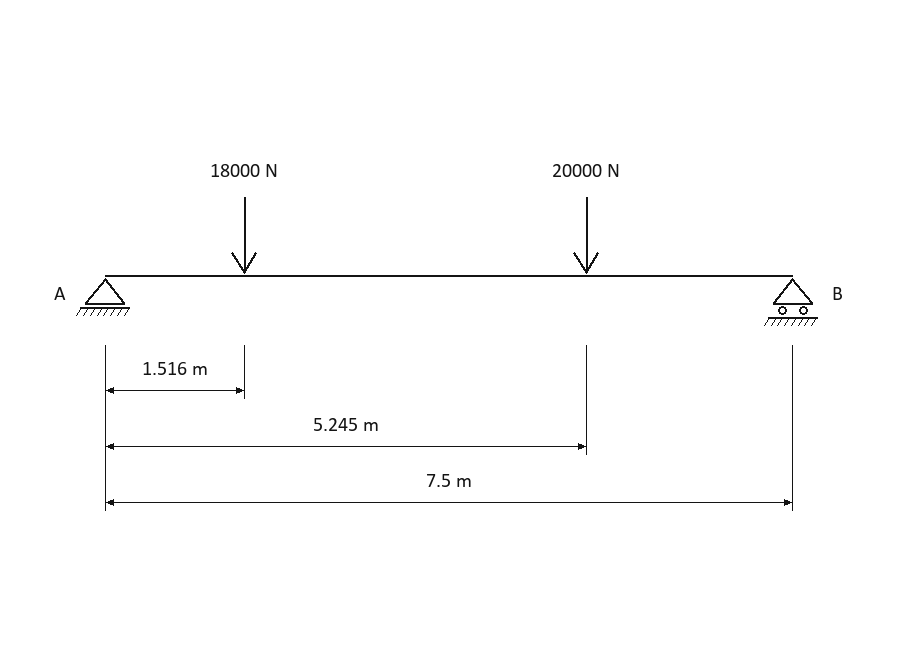pin_support: (76, 278, 130, 316)
point_load: (231, 197, 257, 274), (573, 197, 599, 274)
roller_support: (764, 278, 818, 326)
